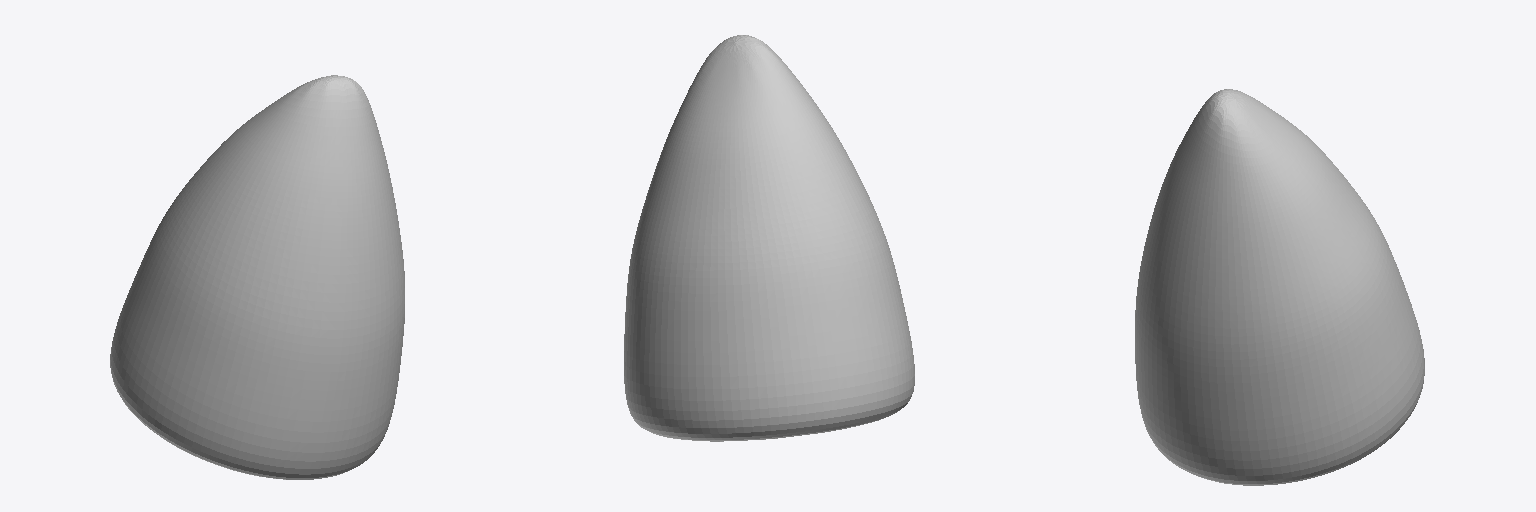
Rendered from lowlegR.obj.
3 renders of one model, left to right at view 1: azimuth 30°, elevation 25°; view 2: azimuth 150°, elevation 25°; view 3: azimuth 270°, elevation 25°, orthographic.
Parts seen in each view (by area): view 1: polySurface11 uploads_files_[number redacted]_Guts_man:Mesh; view 2: polySurface11 uploads_files_[number redacted]_Guts_man:Mesh; view 3: polySurface11 uploads_files_[number redacted]_Guts_man:Mesh.
Part boxes in pixels (x1,y1,x2,y2): polySurface11 uploads_files_[number redacted]_Guts_man:Mesh: (110, 75, 404, 479); polySurface11 uploads_files_[number redacted]_Guts_man:Mesh: (624, 35, 914, 441); polySurface11 uploads_files_[number redacted]_Guts_man:Mesh: (1135, 89, 1424, 485).
Size of the model in its own units: 0.4238 by 0.5933 by 0.4176.